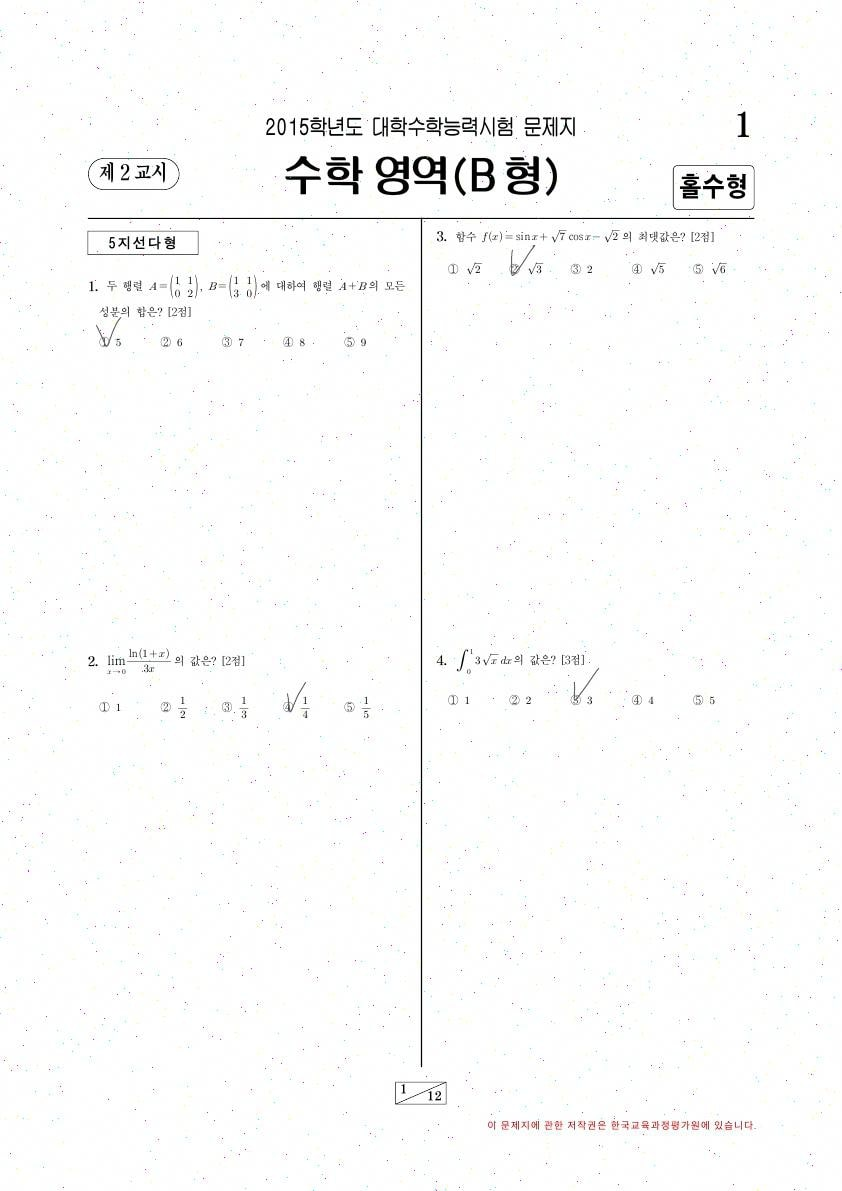question: (77, 266, 410, 368), (74, 641, 386, 737), (424, 639, 736, 730), (420, 219, 750, 300)
